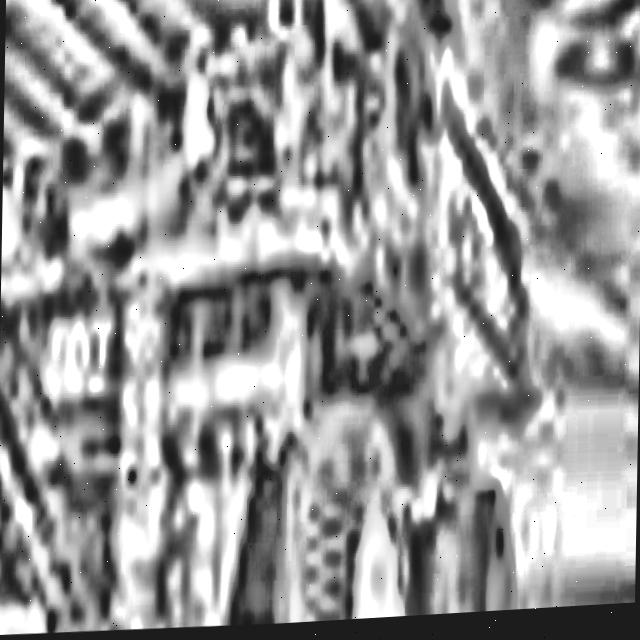dump_truck: (0, 0, 541, 640)
